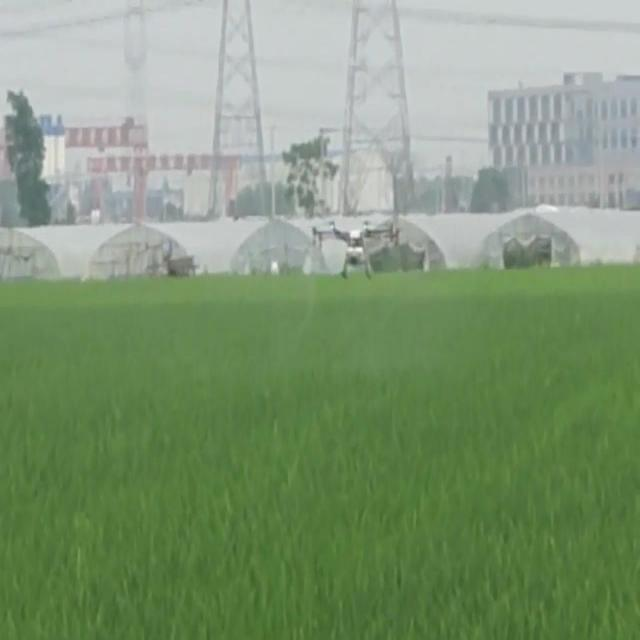UAV: (312, 220, 401, 281)
